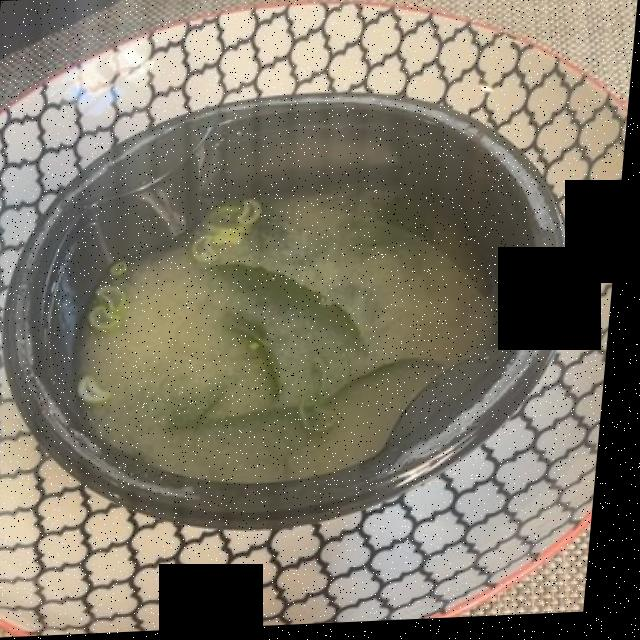soup-miso: (82, 207, 497, 480)
